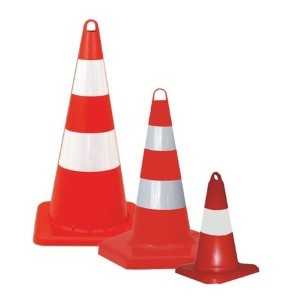traffic cone: (33, 19, 144, 246), (99, 87, 220, 269), (175, 171, 259, 284)
